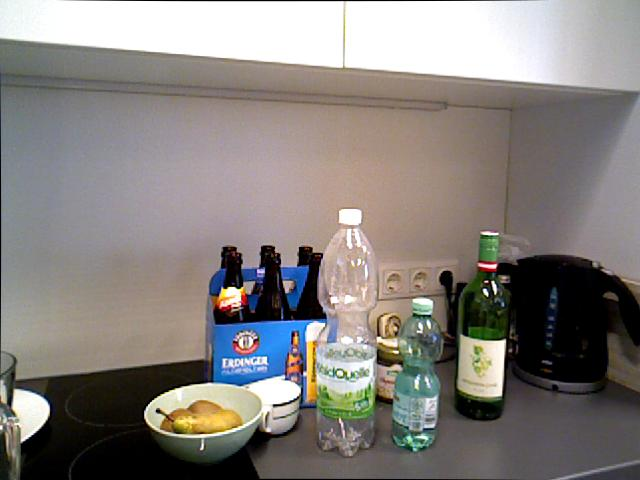bench: (314, 207, 378, 456), (454, 229, 510, 420), (395, 294, 440, 453), (213, 251, 251, 323), (254, 252, 291, 321), (295, 252, 326, 320), (285, 330, 303, 405), (251, 245, 275, 295), (218, 246, 237, 267), (296, 245, 313, 266)
bird: (143, 381, 265, 464)
giraffe: (374, 311, 402, 339)
handbag: (246, 374, 299, 437), (0, 352, 18, 480)
